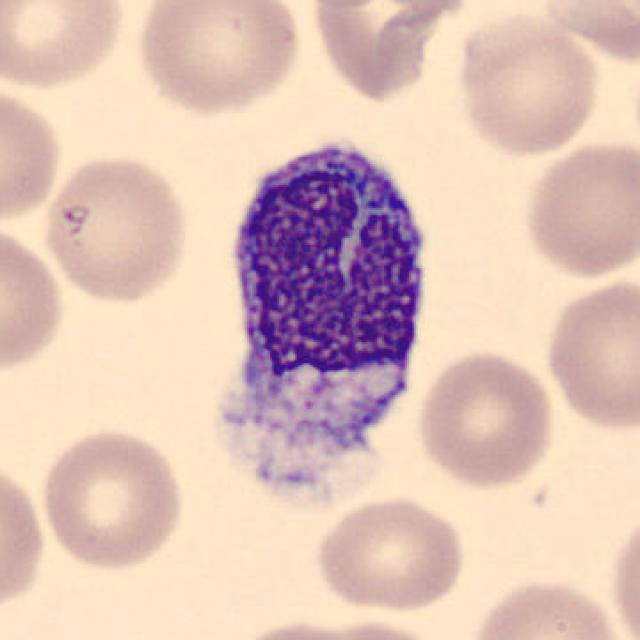Monocyte: (206, 120, 444, 499)
RBC: (39, 148, 194, 307), (36, 423, 190, 575), (450, 8, 604, 158), (412, 345, 558, 492), (309, 490, 471, 617), (132, 0, 304, 118), (300, 0, 477, 106), (518, 136, 638, 284), (540, 272, 640, 436), (0, 0, 131, 93), (466, 573, 631, 640), (0, 220, 69, 380), (0, 78, 68, 229), (0, 453, 50, 628), (524, 0, 640, 71), (209, 613, 428, 640), (606, 502, 640, 638), (309, 617, 446, 640)
